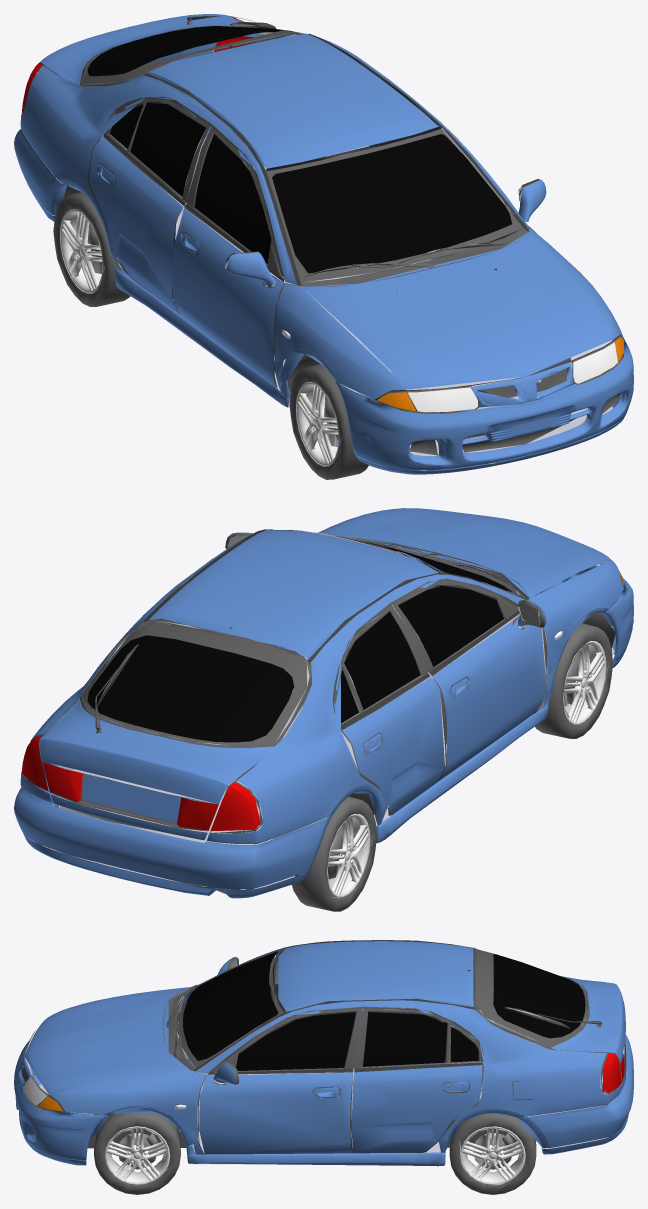
Rendered from gt_carisma_mid.glb.
3 views of the same model, one above another, from view 1: azimuth 30°, elevation 25°; view 2: azimuth 150°, elevation 25°; view 3: azimuth 270°, elevation 25° (orthographic). The views are drawn at different scales.
Parts seen in each view (by area): view 1: Material3 (×7), Material2 (×2), WHEEL_RF_TIRE, WHEEL_RR_TIRE, WHEEL_RF_RIM, WHEEL_RR_RIM; view 2: Material3 (×7), Material2 (×3), WHEEL_RR_TIRE, WHEEL_RF_TIRE, WHEEL_RR_RIM, WHEEL_RF_RIM; view 3: Material3 (×8), Material2 (×3), WHEEL_LF_TIRE, WHEEL_LR_TIRE, WHEEL_LF_RIM, WHEEL_LR_RIM.
Boxes of the visible parts, bbox=[...] form: Material3 (×7): bbox=[14, 14, 633, 474]; Material2 (×2): bbox=[21, 21, 620, 461]; WHEEL_RF_TIRE: bbox=[289, 364, 368, 479]; WHEEL_RR_TIRE: bbox=[53, 192, 130, 306]; WHEEL_RF_RIM: bbox=[296, 382, 339, 466]; WHEEL_RR_RIM: bbox=[60, 209, 103, 293]; Material3 (×7): bbox=[14, 508, 633, 898]; Material2 (×3): bbox=[21, 529, 622, 898]; WHEEL_RR_TIRE: bbox=[292, 796, 376, 911]; WHEEL_RF_TIRE: bbox=[535, 623, 612, 738]; WHEEL_RR_RIM: bbox=[327, 814, 370, 898]; WHEEL_RF_RIM: bbox=[563, 641, 606, 725]; Material3 (×8): bbox=[14, 940, 633, 1169]; Material2 (×3): bbox=[21, 948, 626, 1185]; WHEEL_LF_TIRE: bbox=[94, 1113, 180, 1194]; WHEEL_LR_TIRE: bbox=[449, 1113, 536, 1194]; WHEEL_LF_RIM: bbox=[104, 1126, 170, 1185]; WHEEL_LR_RIM: bbox=[461, 1126, 525, 1185].
Size of the model in its own units: 1.99 by 1.45 by 4.45.
